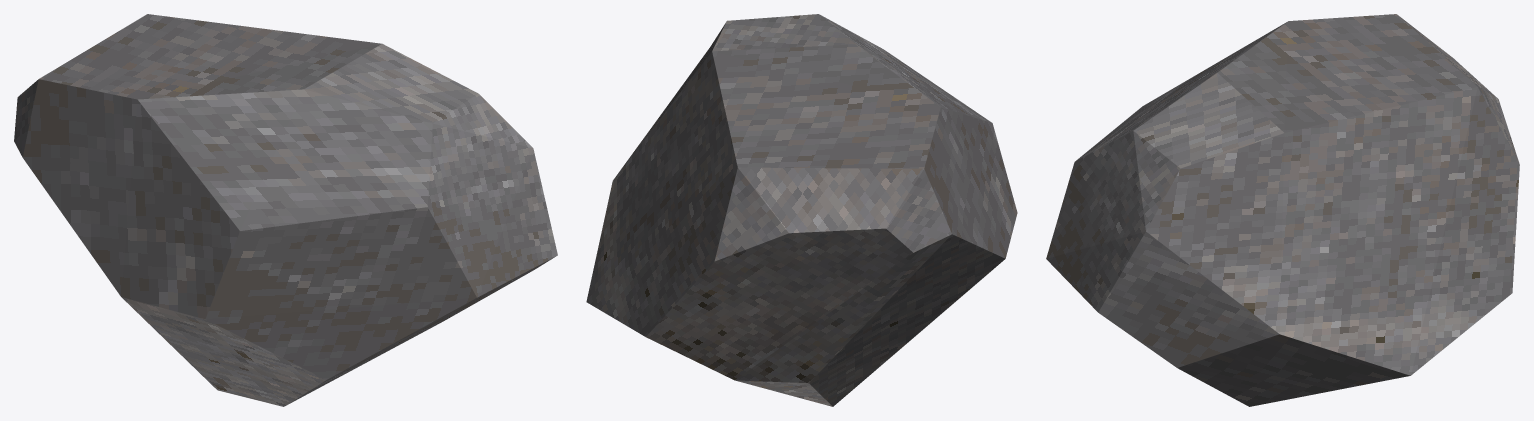
The model's file is rock_04.glb.
The picture shows the model from 3 angles, left to right: view 1: azimuth 30°, elevation 25°; view 2: azimuth 150°, elevation 25°; view 3: azimuth 270°, elevation 25°; orthographic projection. The views are drawn at different scales.
Visible parts, largest first — view 1: Rock4; view 2: Rock4; view 3: Rock4.
Boxes of the visible parts, left/top/right/bottom form: Rock4: left=14, top=14, right=557, bottom=406; Rock4: left=586, top=14, right=1017, bottom=406; Rock4: left=1046, top=14, right=1519, bottom=406.
Size of the model in its own units: 0.8831 by 0.6811 by 0.9432.
Materials: 1 (1 with a texture image).
